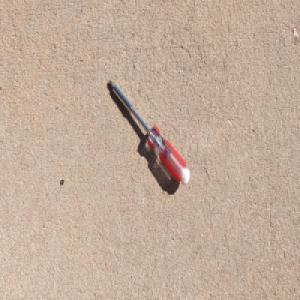Screwdriver: (107, 77, 191, 187)
